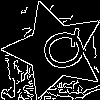Q: (30, 25, 91, 77)
